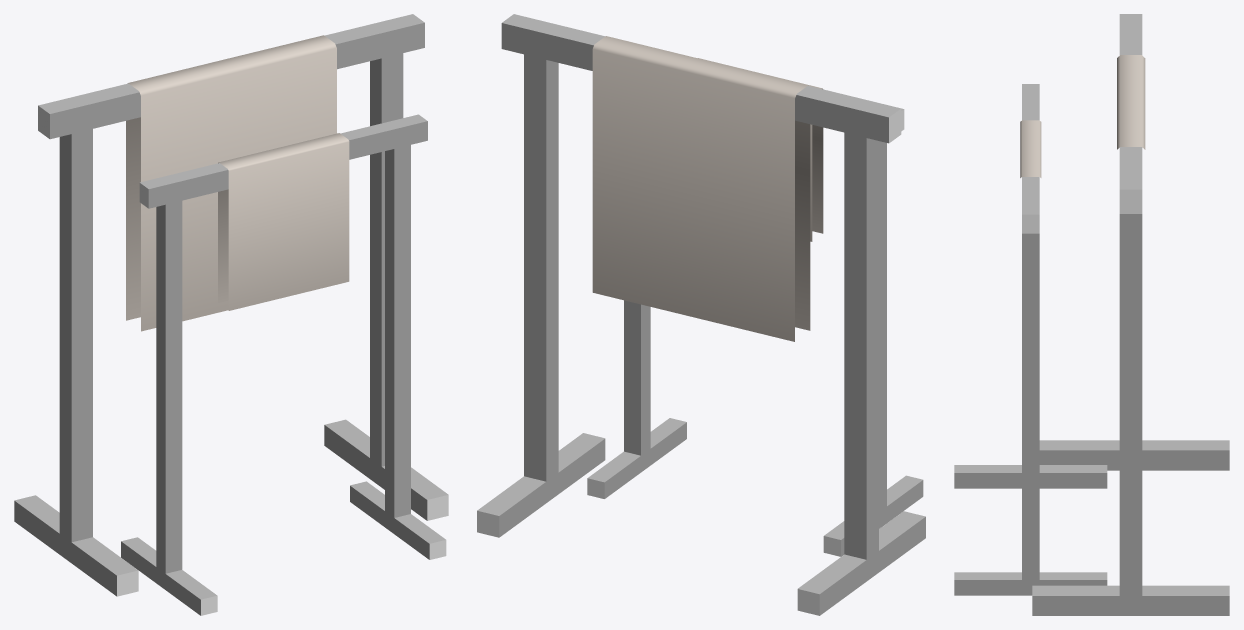
The model's file is cloth-stand-2.fbx.
The picture shows the model from 3 angles, left to right: view 1: azimuth 30°, elevation 25°; view 2: azimuth 150°, elevation 25°; view 3: azimuth 270°, elevation 25°; orthographic projection. The views are drawn at different scales.
Parts seen in each view (by area): view 1: cloth-stand-2; view 2: cloth-stand-2; view 3: cloth-stand-2.
Part boxes in pixels (x1,y1,x2,y2): cloth-stand-2: (14,14,448,615); cloth-stand-2: (477,14,925,615); cloth-stand-2: (954,14,1229,615).
Bounding box in the file's own units: 140 × 163 × 93.02.
2 materials, 2 textured.
